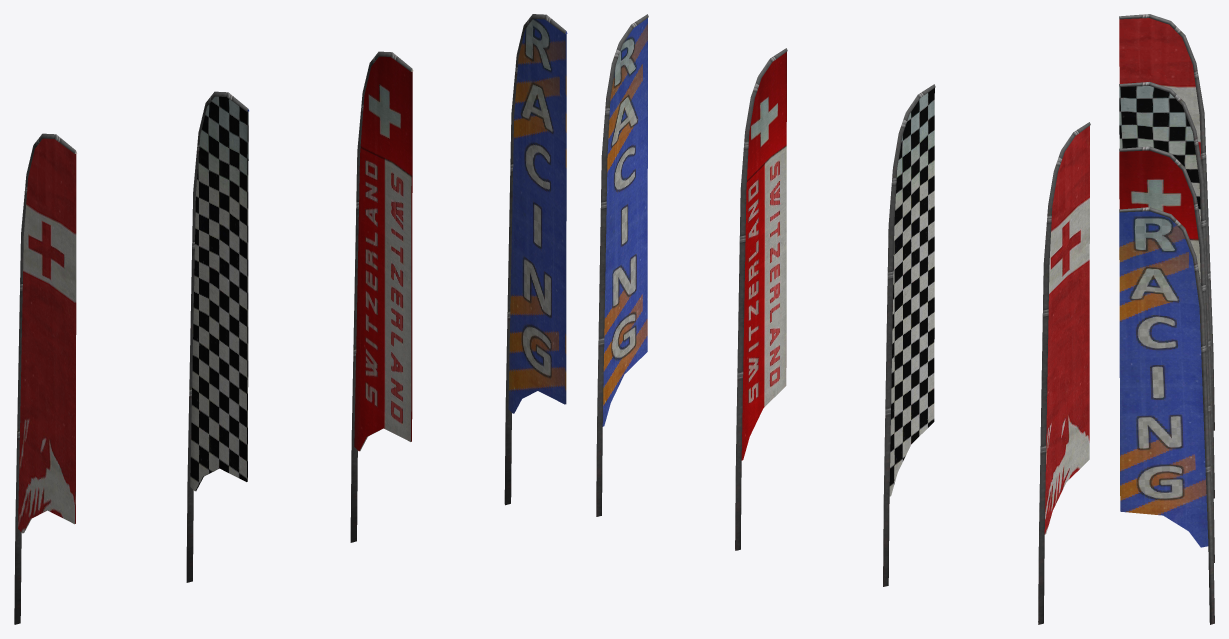
Rendered from FlagPloe.fbx.
The picture shows the model from 3 angles, left to right: view 1: azimuth 30°, elevation 25°; view 2: azimuth 150°, elevation 25°; view 3: azimuth 270°, elevation 25°; orthographic projection. The views are drawn at different scales.
Parts seen in each view (by area): view 1: polySurface5, polySurface6, polySurface4, polySurface7; view 2: polySurface4, polySurface5, polySurface7, polySurface6; view 3: polySurface6, polySurface7, polySurface4, polySurface5.
Part boxes in pixels (bbox=[...]): polySurface5: bbox=[350, 51, 413, 542]; polySurface6: bbox=[504, 14, 567, 505]; polySurface4: bbox=[186, 91, 248, 582]; polySurface7: bbox=[14, 133, 76, 624]; polySurface4: bbox=[883, 84, 935, 586]; polySurface5: bbox=[735, 48, 787, 550]; polySurface7: bbox=[1038, 122, 1090, 624]; polySurface6: bbox=[596, 14, 648, 516]; polySurface6: bbox=[1119, 207, 1214, 624]; polySurface7: bbox=[1119, 14, 1214, 430]; polySurface4: bbox=[1119, 82, 1214, 498]; polySurface5: bbox=[1119, 146, 1214, 562].
Size of the model in its own units: 7.56 by 7.51 by 1.57.
Materials: 1 (1 with a texture image).
